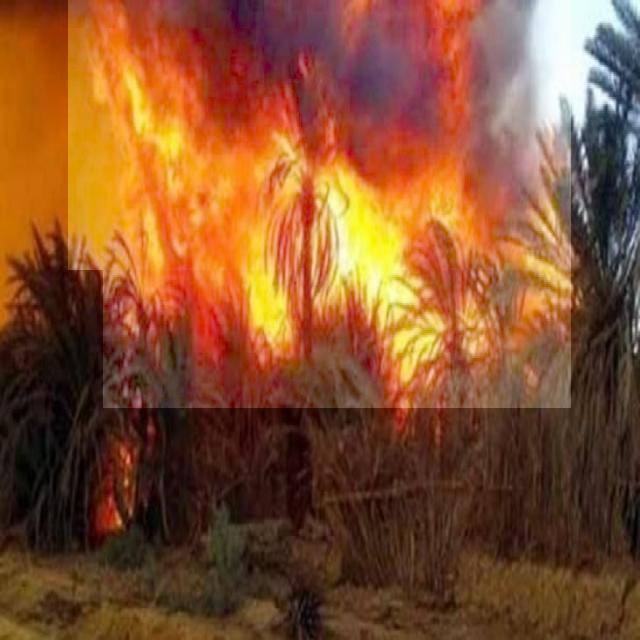Fire: (103, 70, 571, 408)
Smoke: (68, 0, 571, 270)
